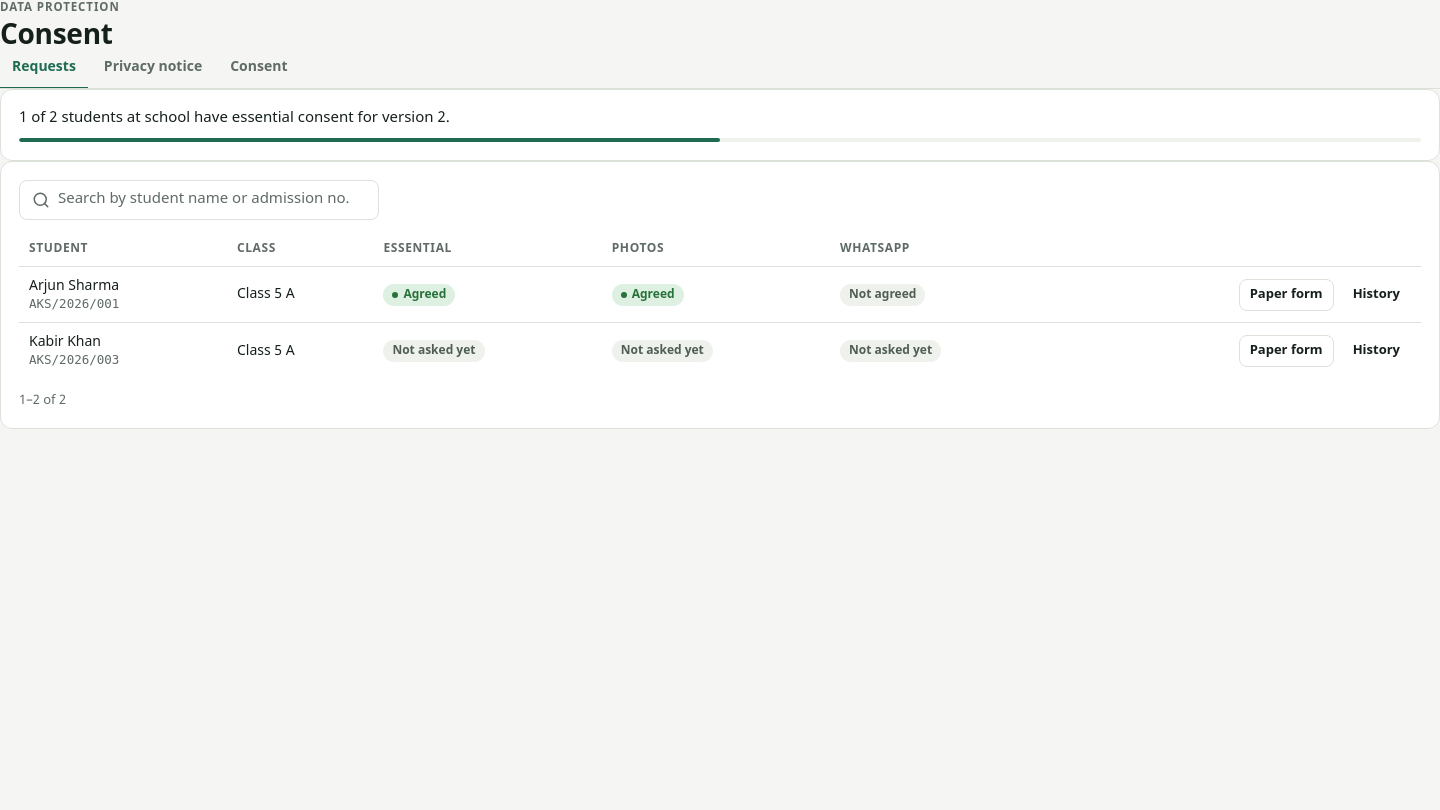
Test: ConsentsView › records a signed paper form
Later steps or results of the test are not shown.
What coordinates should you click on to do the following:
click the button with aria-label "Paper form: Kabir Khan"
I would click on:
 (1286, 351)
Its box is [1239,335,1334,367].
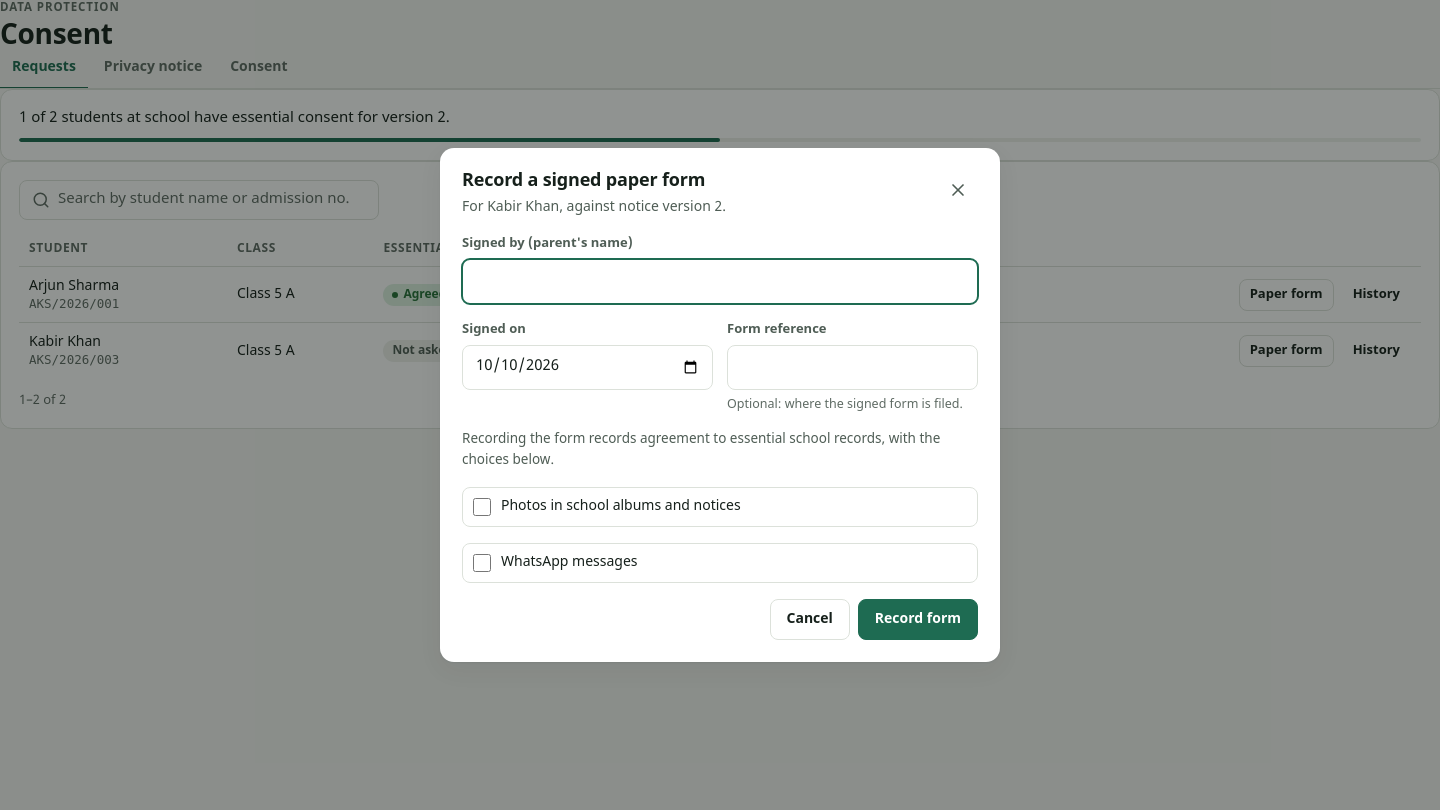
What coordinates should you click on to do the following:
click the button "Record form"
I would click on:
 (918, 619)
Its box is [858,599,978,640].
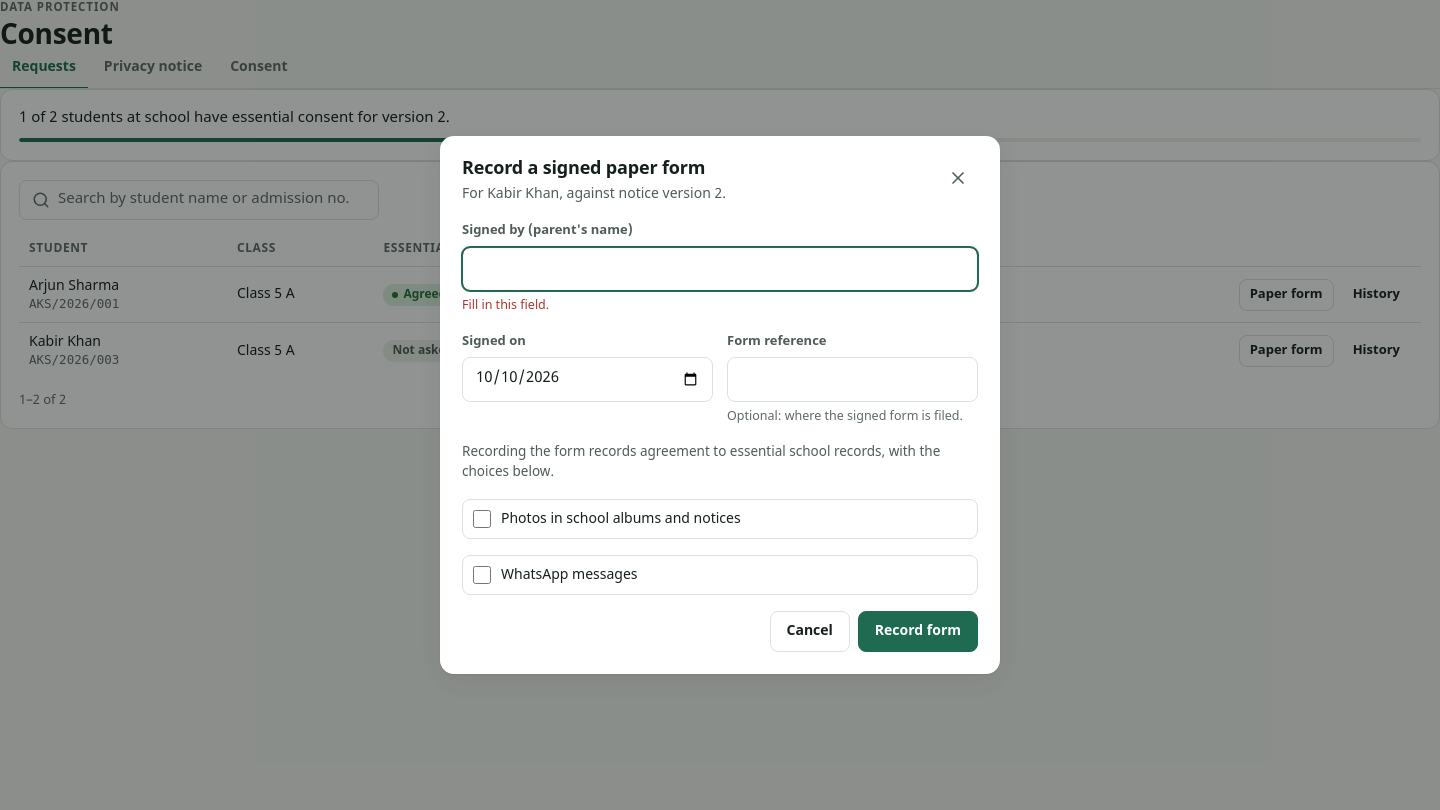
Now the text "Fill in this field." is shown, box [462,298,549,314]
